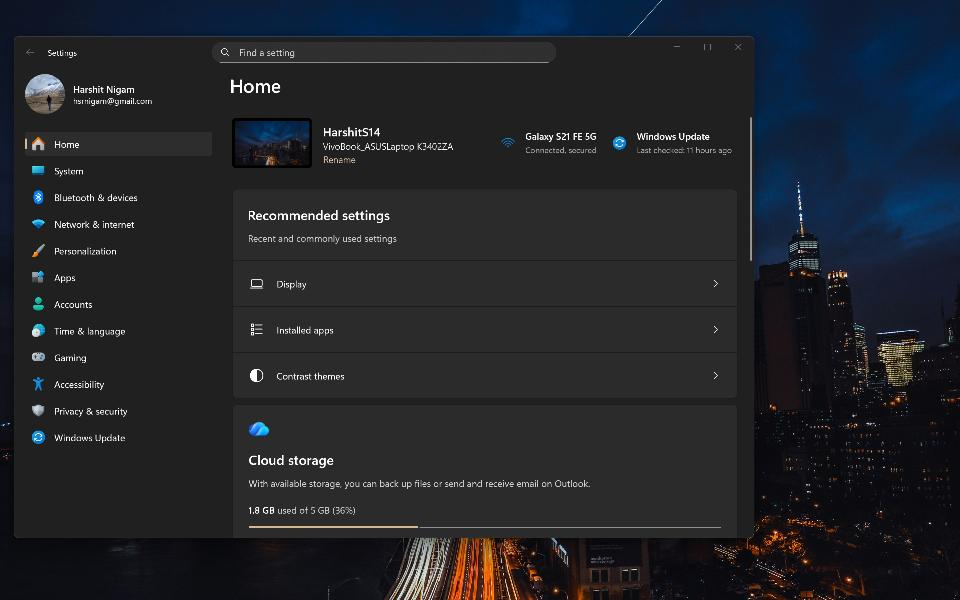close_button: (725, 37, 753, 58)
maximize_button: (698, 37, 716, 56)
minimize_button: (667, 37, 691, 58)
